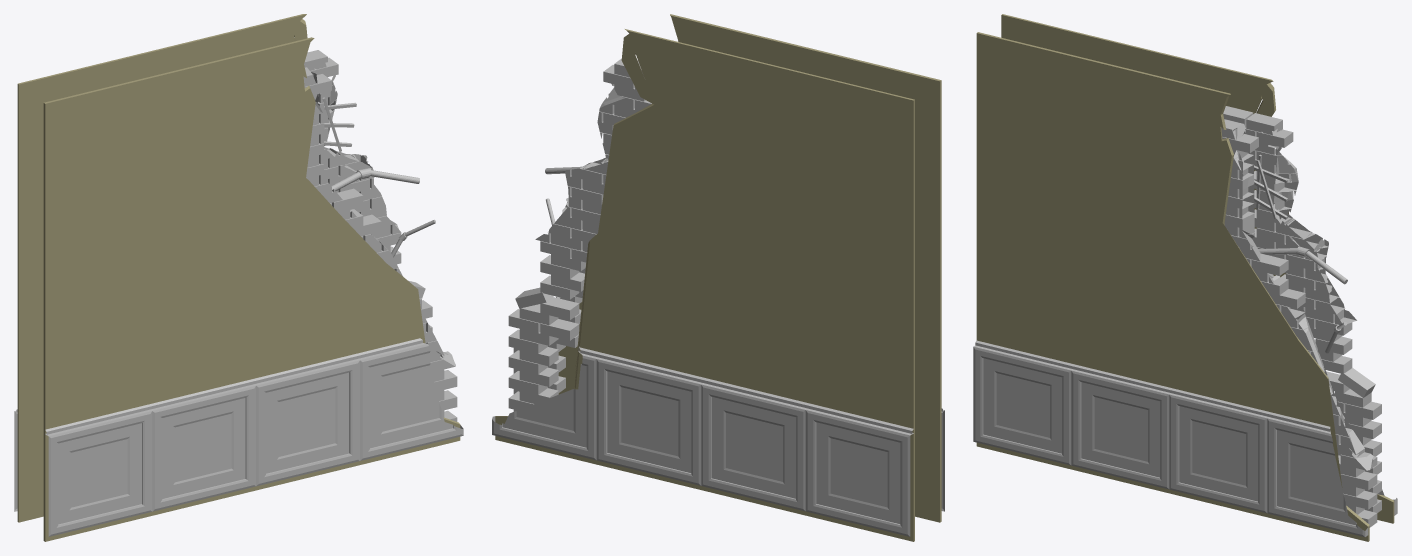
The model's file is WallDestroyed.fbx.
3 views of the same model, side by side, from view 1: azimuth 30°, elevation 25°; view 2: azimuth 150°, elevation 25°; view 3: azimuth 330°, elevation 25° (orthographic). The views are drawn at different scales.
Parts seen in each view (by area): view 1: WallDestroyed; view 2: WallDestroyed; view 3: WallDestroyed.
Part boxes in pixels (x1,y1,x2,y2): WallDestroyed: (14, 14, 463, 541); WallDestroyed: (492, 14, 944, 541); WallDestroyed: (973, 14, 1397, 541).
Size of the model in its own units: 600 by 605 by 87.54.
